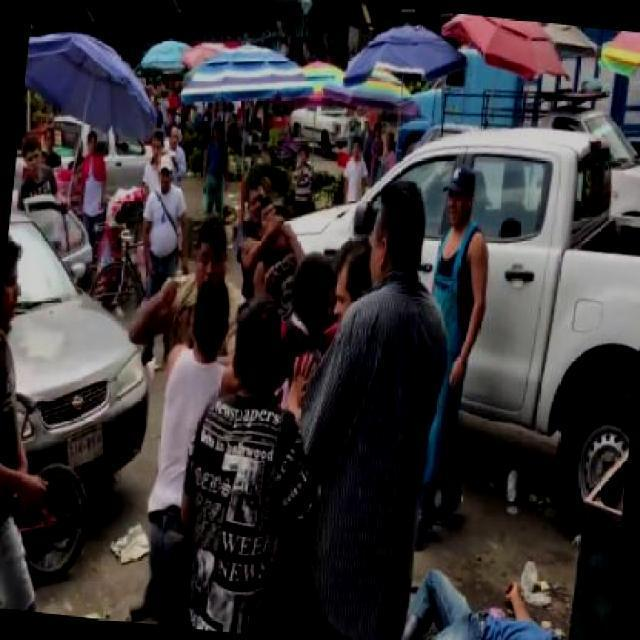fight: (115, 207, 252, 484), (229, 174, 311, 310)
